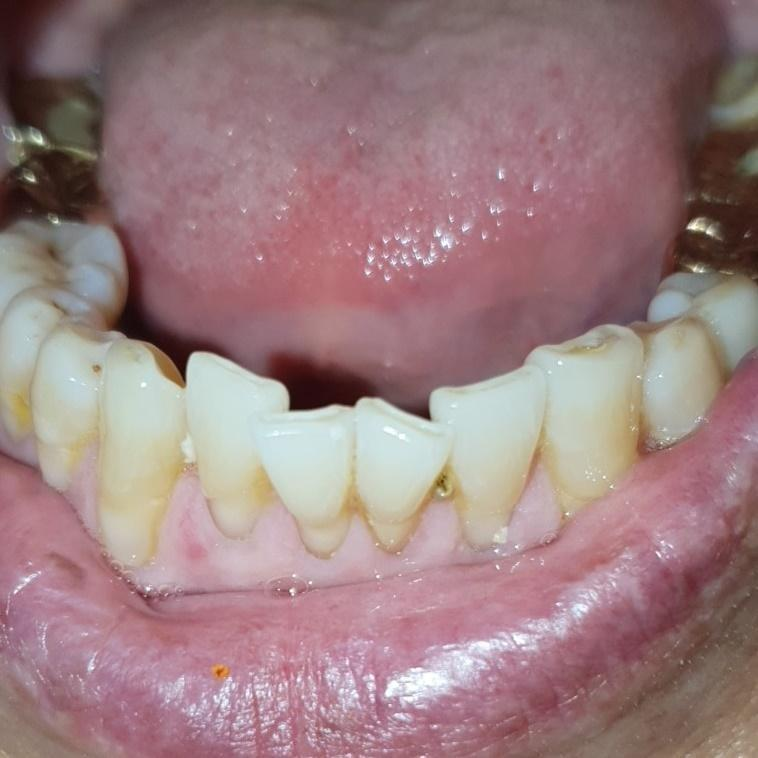Crowding: (247, 378, 465, 554)
